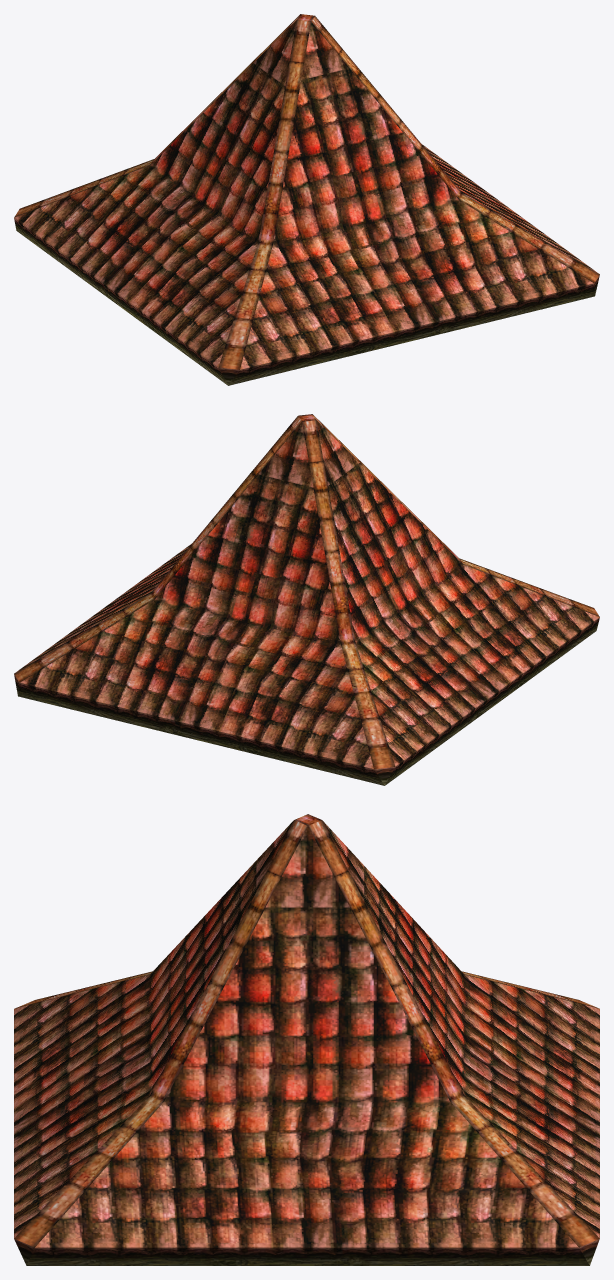
The picture shows the model from 3 angles, top to bottom: view 1: azimuth 30°, elevation 25°; view 2: azimuth 150°, elevation 25°; view 3: azimuth 270°, elevation 25°; orthographic projection. The views are drawn at different scales.
Visible parts, largest first — view 1: cc38-col; view 2: cc38-col; view 3: cc38-col.
Boxes of the visible parts, x1,y1,x2,y2 form: cc38-col: (14, 14, 599, 385); cc38-col: (14, 414, 599, 785); cc38-col: (14, 814, 599, 1265).
Size of the model in its own units: 6.7 by 4.12 by 6.7.
3 materials, 3 textured.
